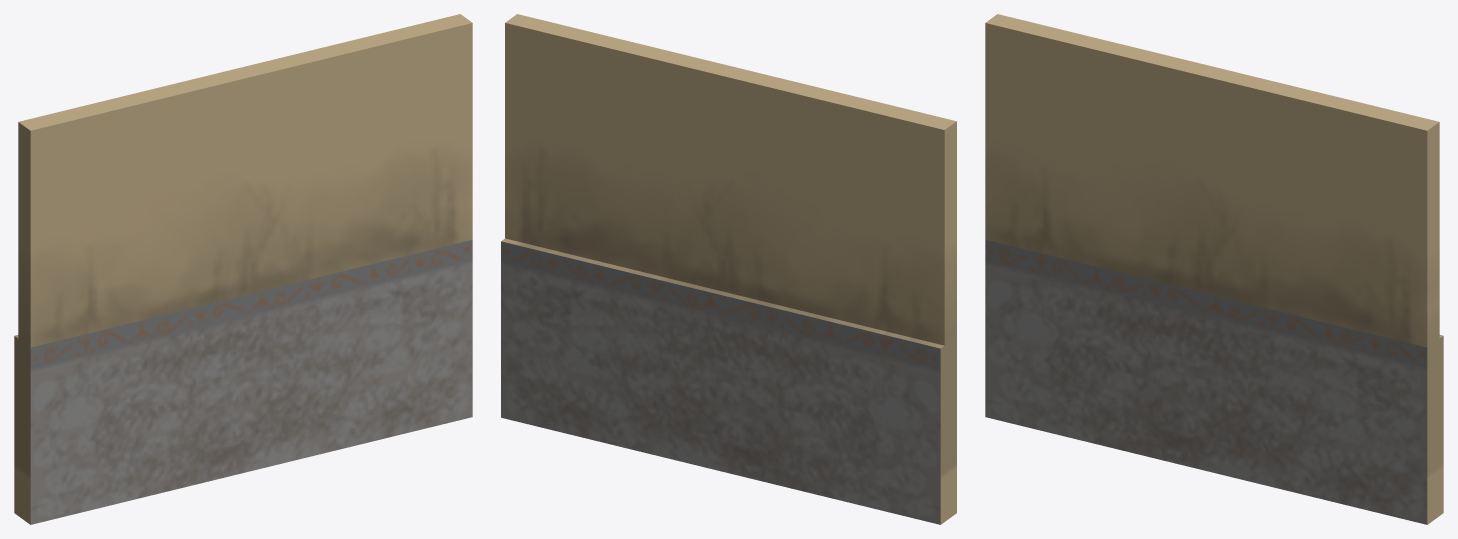
File: YellowBrown_ModularLowWall.fbx
The picture shows the model from 3 angles, left to right: view 1: azimuth 30°, elevation 25°; view 2: azimuth 150°, elevation 25°; view 3: azimuth 330°, elevation 25°; orthographic projection.
Parts seen in each view (by area): view 1: Cube.015; view 2: Cube.015; view 3: Cube.015.
Part boxes in pixels (box(x1,y1,x2,y2)): Cube.015: box(14, 14, 472, 524); Cube.015: box(501, 14, 956, 524); Cube.015: box(985, 14, 1443, 524).
Size of the model in its own units: 4.14 by 3.53 by 0.2635.
